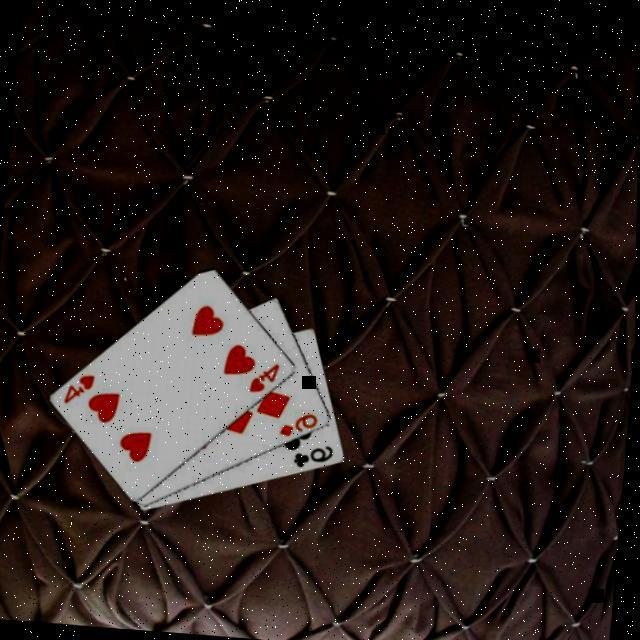4H: (246, 359, 282, 397), (61, 372, 97, 409)
6C: (290, 441, 336, 474)
9D: (276, 410, 320, 443)
